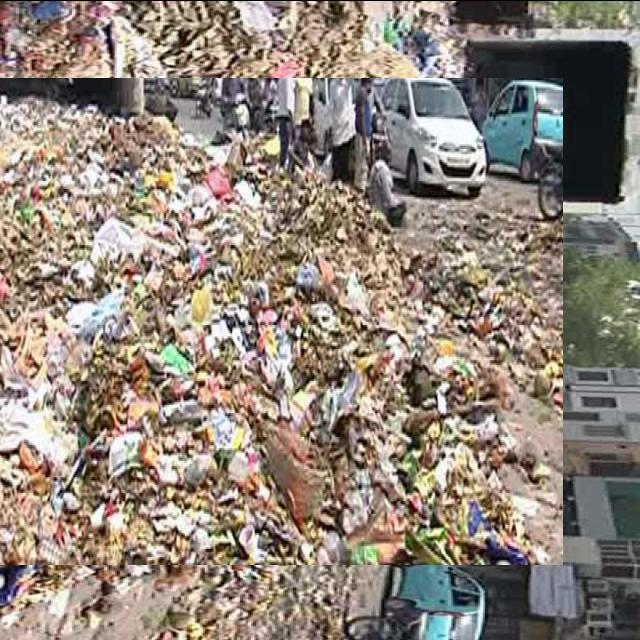garbage: (0, 40, 526, 603)
